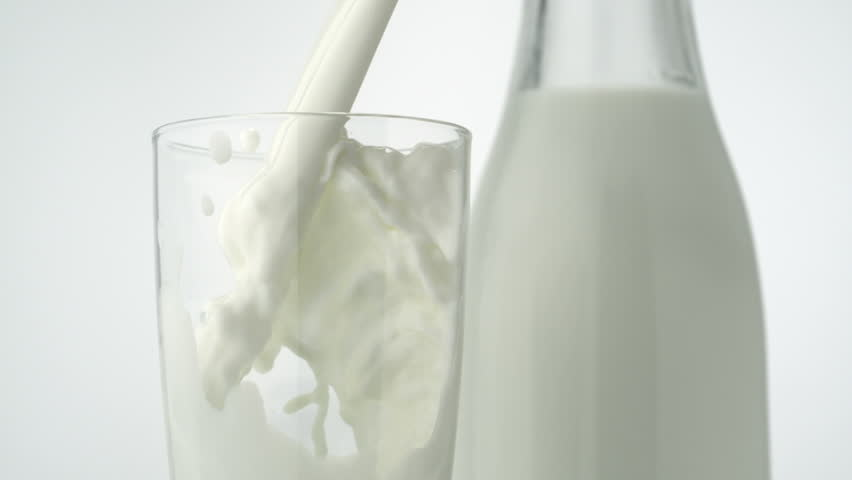glass of milk: (167, 131, 454, 480)
